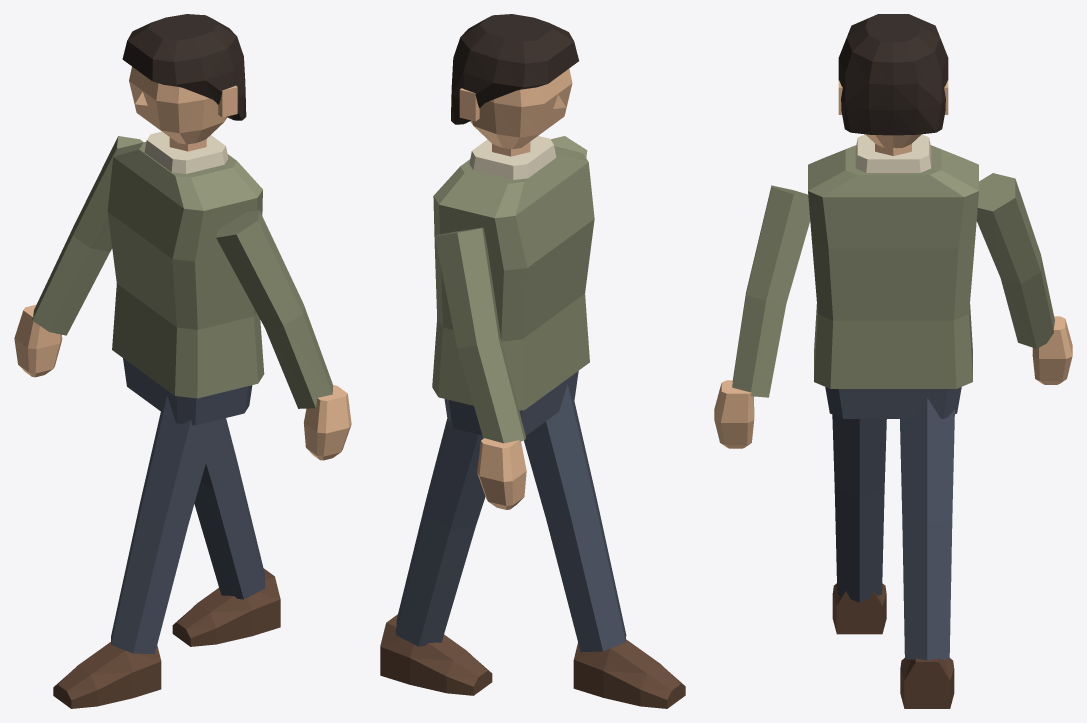
Rendered from KANJI_11_HITO.fbx.
3 renders of one model, left to right at view 1: azimuth 30°, elevation 25°; view 2: azimuth 150°, elevation 25°; view 3: azimuth 270°, elevation 25°, orthographic. The views are drawn at different scales.
Visible parts, largest first — view 1: SM_KANJI_11_Hito; view 2: SM_KANJI_11_Hito; view 3: SM_KANJI_11_Hito.
Part boxes in pixels (x1=…): SM_KANJI_11_Hito: x1=14, y1=14, x2=351, y2=708; SM_KANJI_11_Hito: x1=380, y1=14, x2=685, y2=708; SM_KANJI_11_Hito: x1=714, y1=14, x2=1072, y2=708.
Bounding box in the file's own units: 0.14 × 0.35 × 0.18.
